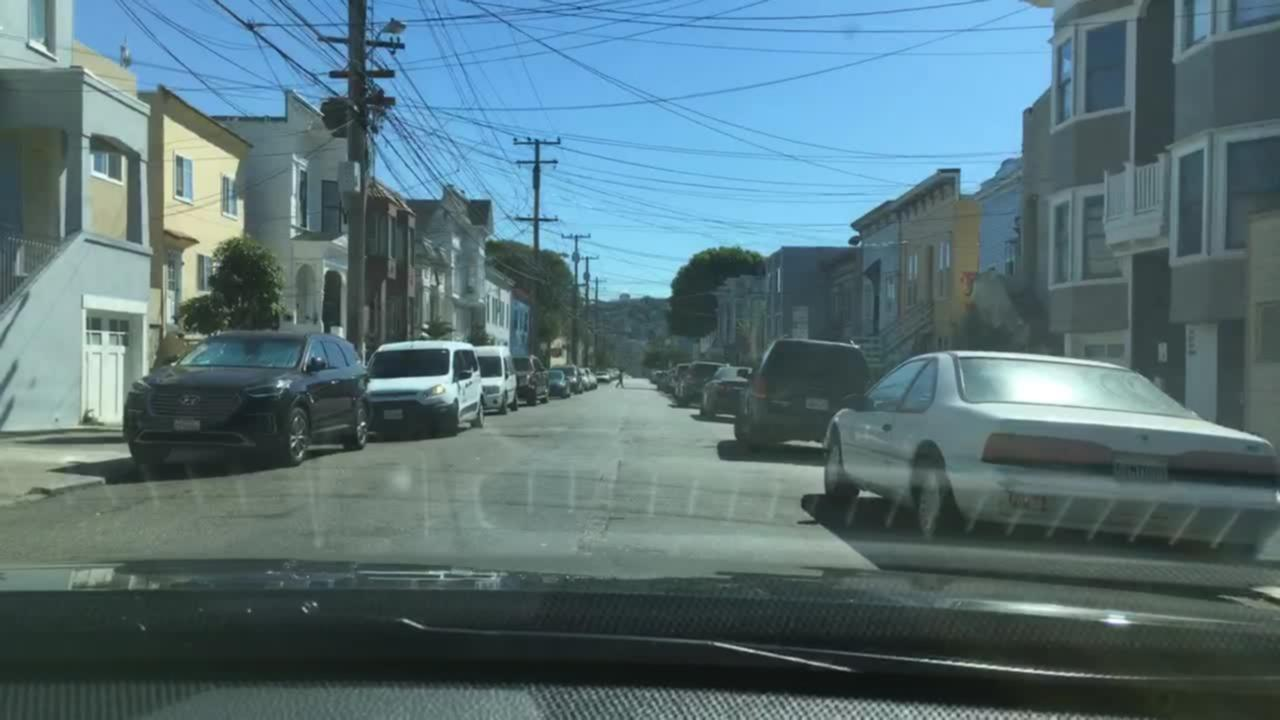Hyundai: (177, 391, 203, 408)
